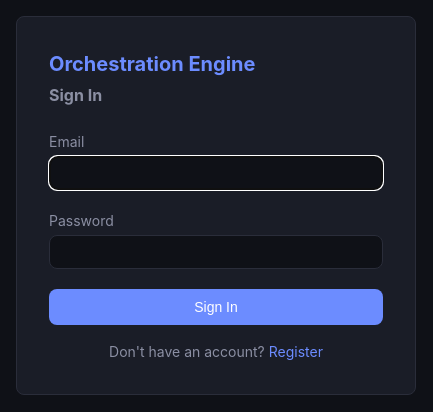
it: Login › shows loading state while signing in
Type "test@test.com" into the field labelled "Email" at point(216, 172), box [49,156,383,190]
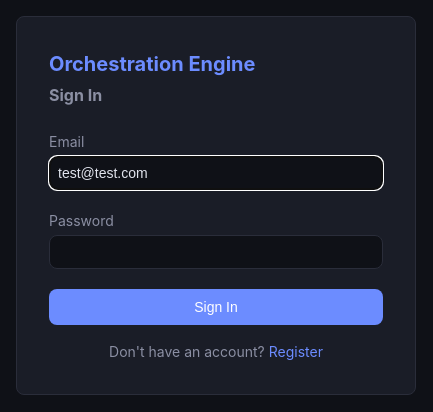
Type "password123" into the password field labelled "Password" at point(216, 252), box [49,234,383,268]
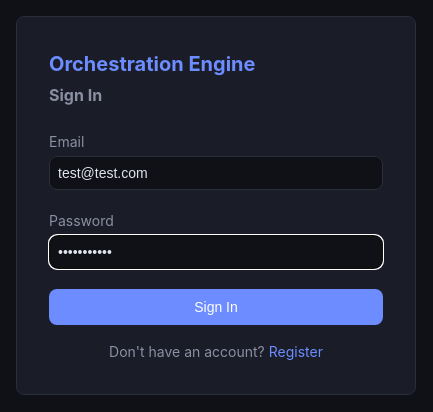
Click the button "Sign In" at point(216, 306), box [49,288,383,324]
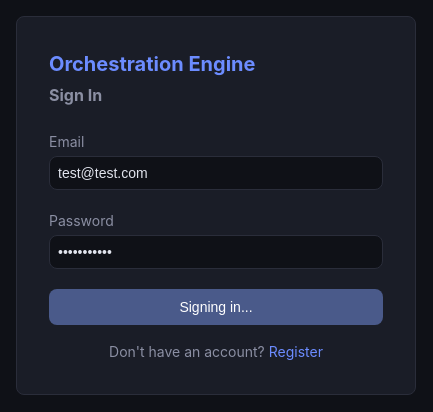
Expected: the button "Signing in..." is shown, [49,288,383,324]
